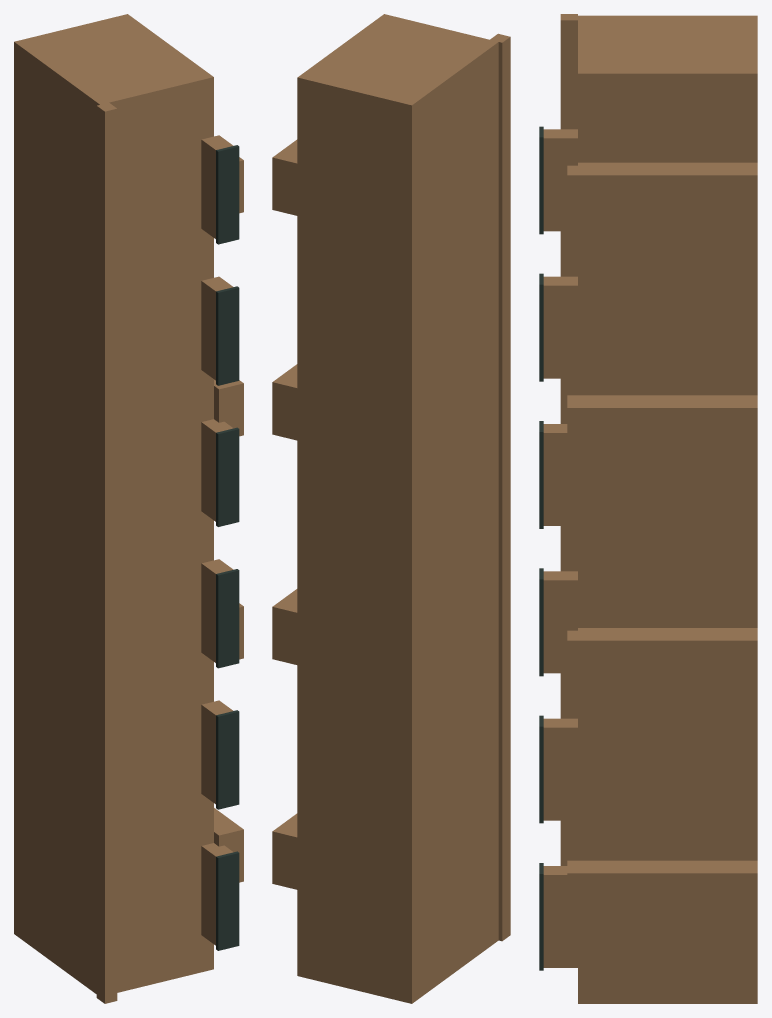
The model's file is SM_Monolithic_Rampart_Wall.obj.
The picture shows the model from 3 angles, left to right: view 1: azimuth 30°, elevation 25°; view 2: azimuth 150°, elevation 25°; view 3: azimuth 270°, elevation 25°; orthographic projection. The views are drawn at different scales.
Parts seen in each view (by area): view 1: SM_Monolithic_Rampart_Wall; view 2: SM_Monolithic_Rampart_Wall; view 3: SM_Monolithic_Rampart_Wall.
Boxes of the visible parts, x1=… form: SM_Monolithic_Rampart_Wall: x1=14, y1=14, x2=243, y2=1003; SM_Monolithic_Rampart_Wall: x1=272, y1=14, x2=510, y2=1003; SM_Monolithic_Rampart_Wall: x1=539, y1=14, x2=757, y2=1003.
Bounding box in the file's own units: 400 × 2400 × 510.
